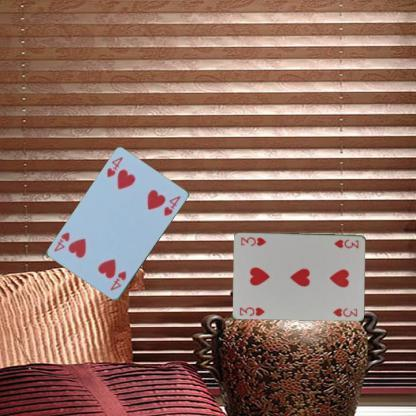3h: (332, 236, 361, 250), (237, 304, 266, 318)
4h: (107, 269, 128, 292), (104, 154, 124, 178)
